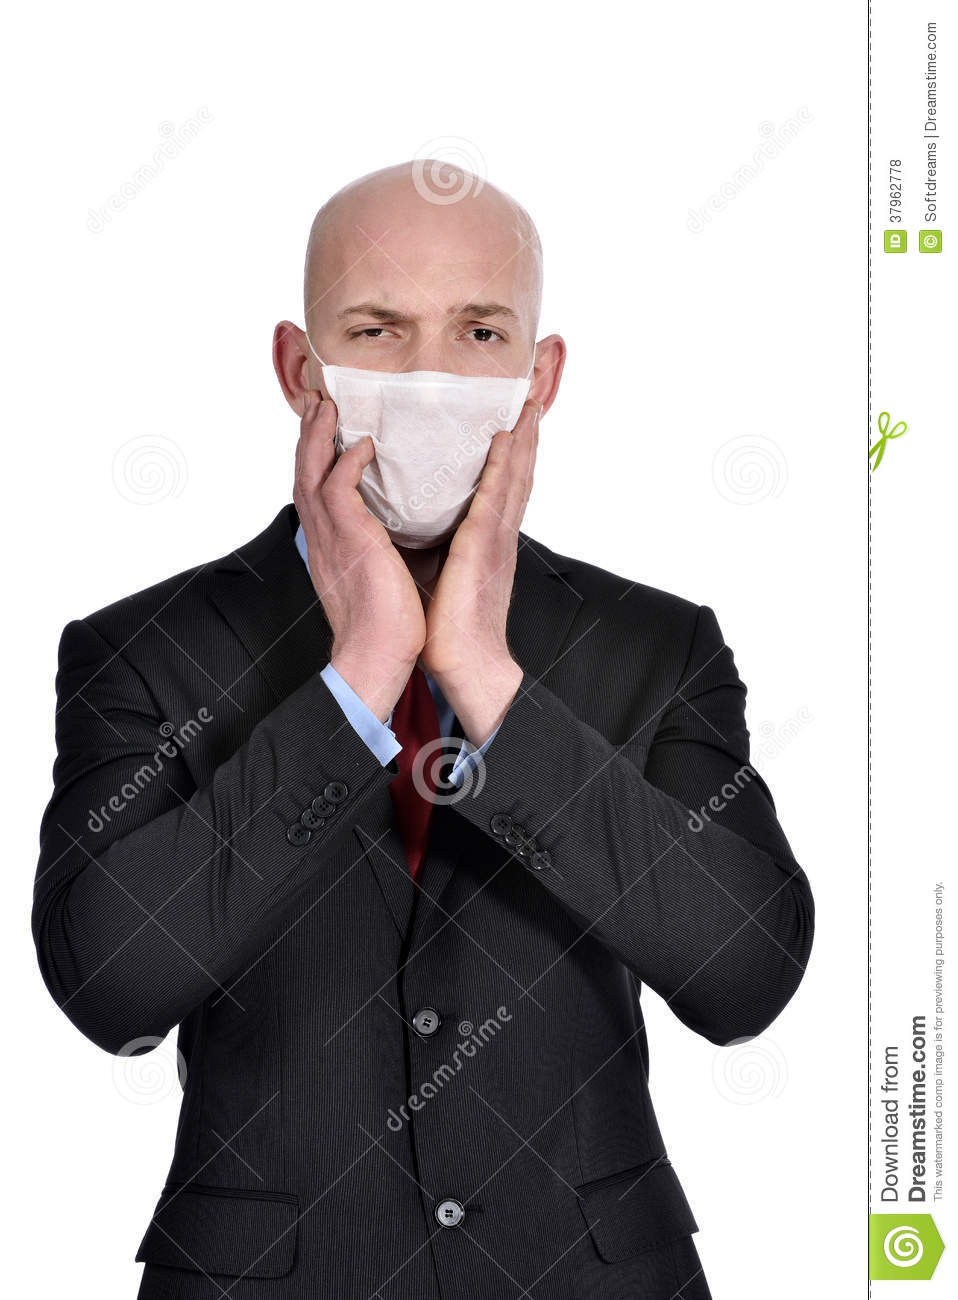mask: (327, 365, 525, 554)
